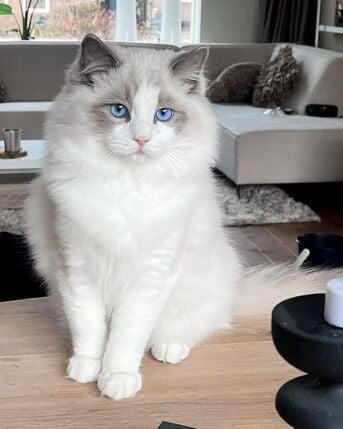ragdoll: (71, 32, 214, 176)
